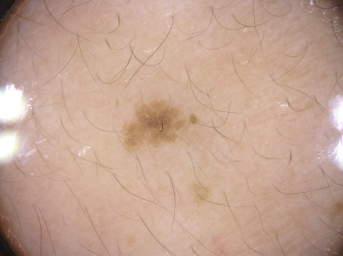seborrheic keratosis: (106, 80, 203, 165)
